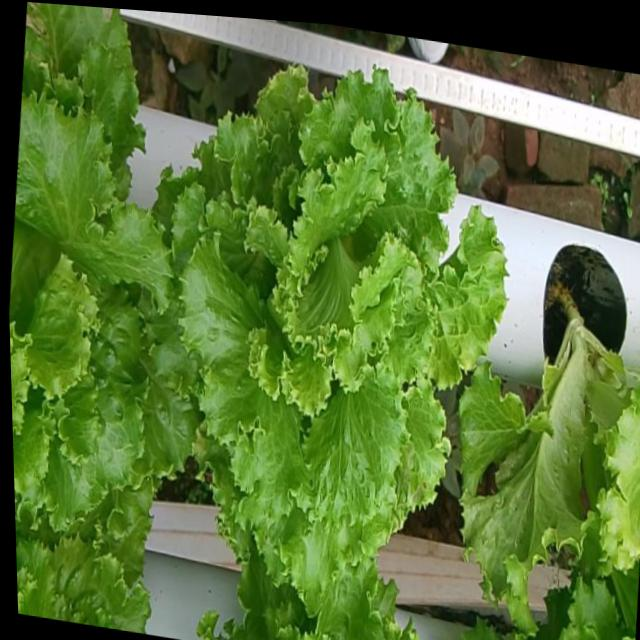Mature: (181, 54, 514, 582), (9, 72, 205, 521)
